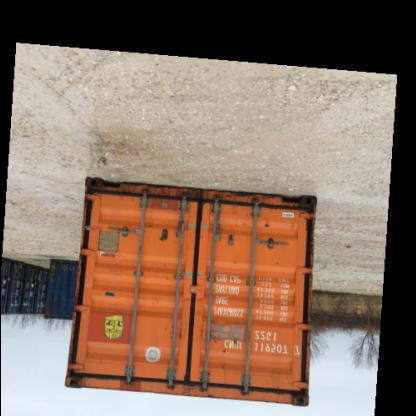Damage: (131, 188, 199, 216), (254, 377, 309, 407), (194, 318, 245, 350), (272, 188, 318, 218), (160, 298, 184, 350), (223, 197, 249, 230), (67, 360, 91, 390), (256, 219, 276, 238), (162, 228, 174, 250)
